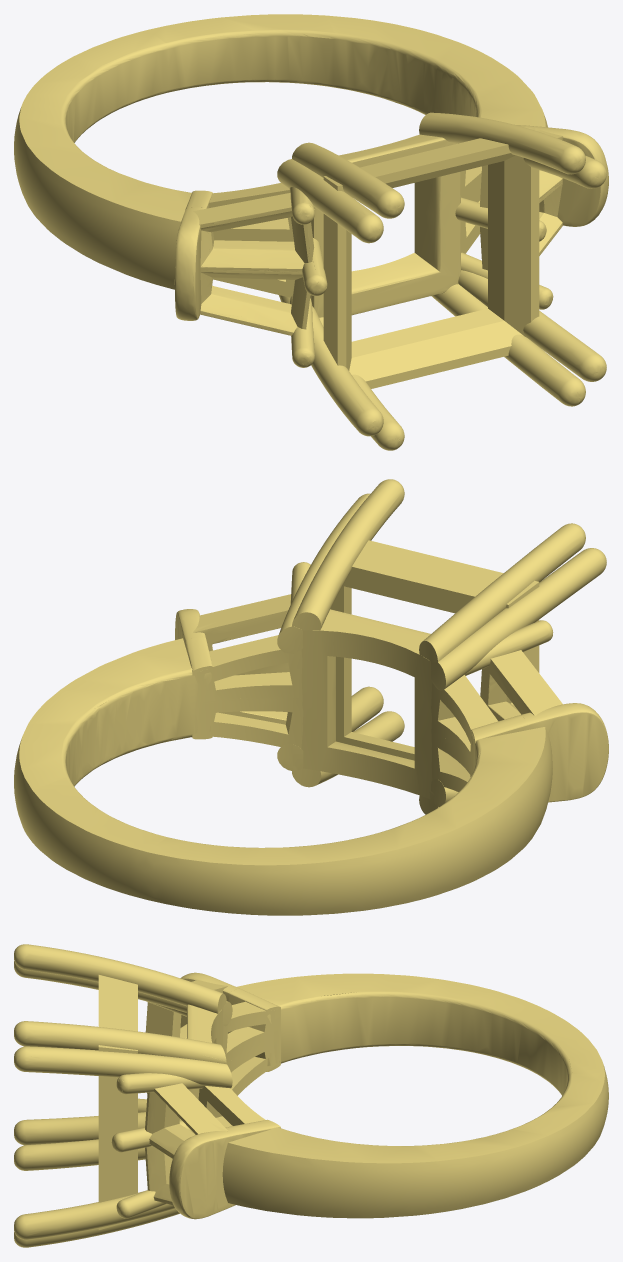
3 renders of one model, top to bottom at view 1: azimuth 30°, elevation 25°; view 2: azimuth 150°, elevation 25°; view 3: azimuth 270°, elevation 25°, orthographic. The views are drawn at different scales.
Visible parts, largest first — view 1: lr-0046; view 2: lr-0046; view 3: lr-0046.
Boxes of the visible parts, x1,y1,x2,y2 form: lr-0046: (14,14,608,450); lr-0046: (14,479,608,915); lr-0046: (14,944,608,1247).
Bounding box in the file's own units: 0.7709 × 0.416 × 1.
